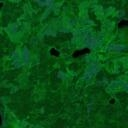alloviz: (71, 46, 91, 58), (114, 18, 128, 29), (48, 46, 60, 57)
